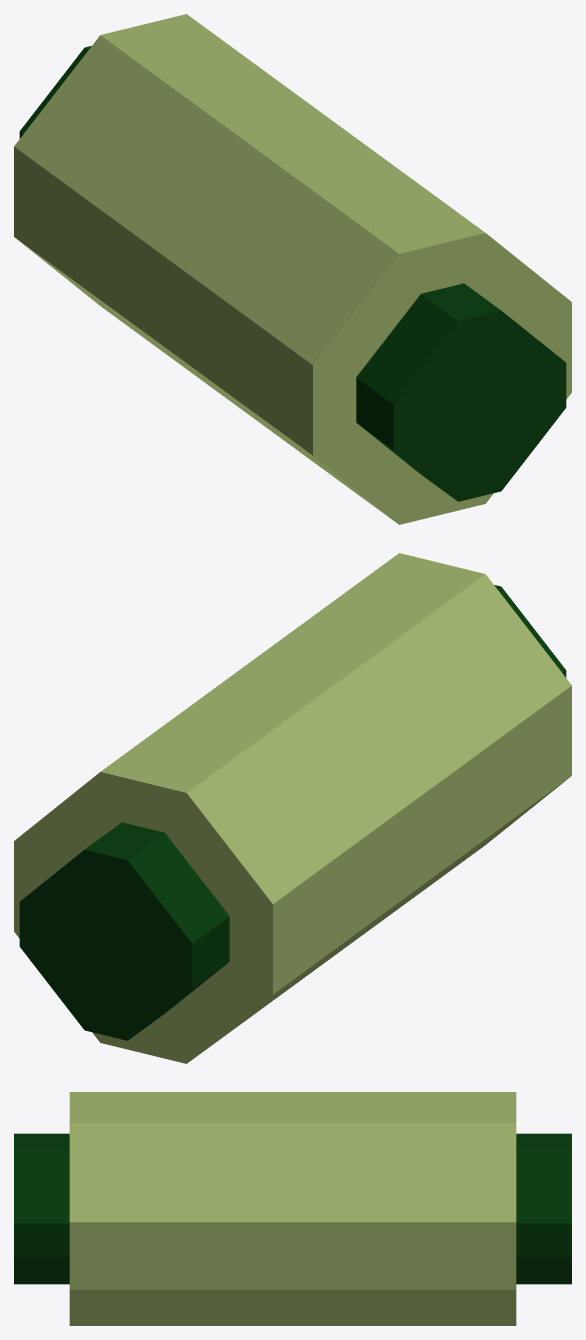
Rendered from inv_spinach_roll.obj.
3 renders of one model, top to bottom at view 1: azimuth 30°, elevation 25°; view 2: azimuth 150°, elevation 25°; view 3: azimuth 270°, elevation 25°, orthographic. The views are drawn at different scales.
Bounding box in the file's own units: 0.0938 × 0.0938 × 0.2344.
